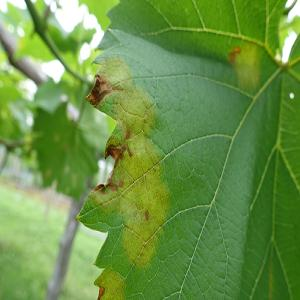Folha: (75, 0, 299, 299)
Fungo: (84, 54, 170, 269), (228, 41, 262, 94), (85, 72, 117, 109), (228, 45, 241, 63)
